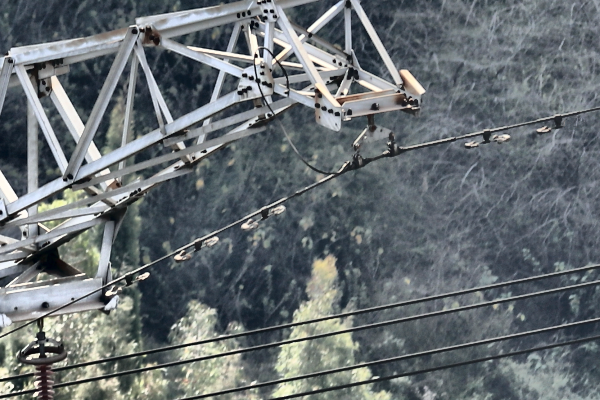damper: (170, 233, 220, 264), (239, 203, 288, 232), (104, 270, 151, 297), (462, 126, 512, 150)
damper_defect: (533, 114, 570, 136)
